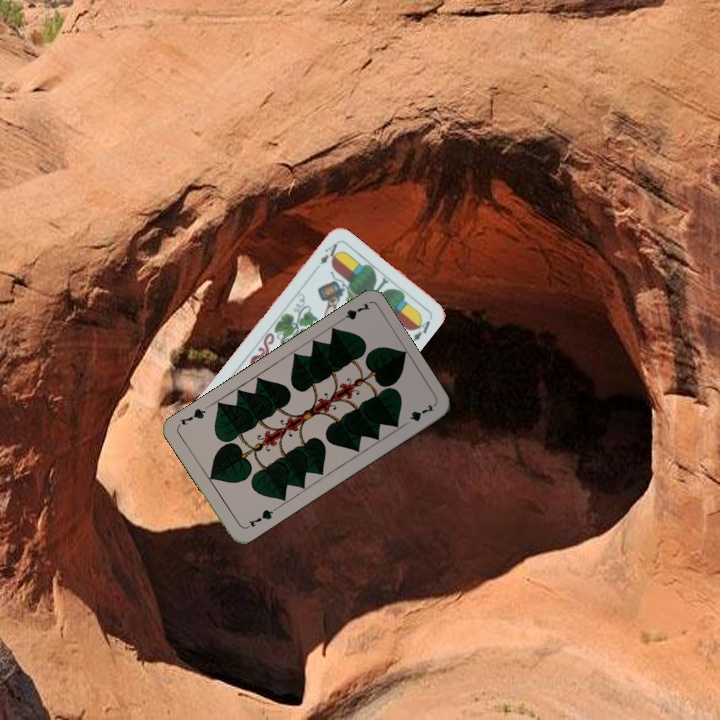EA: (310, 239, 340, 274)
G7: (333, 299, 372, 326), (241, 504, 278, 531)
